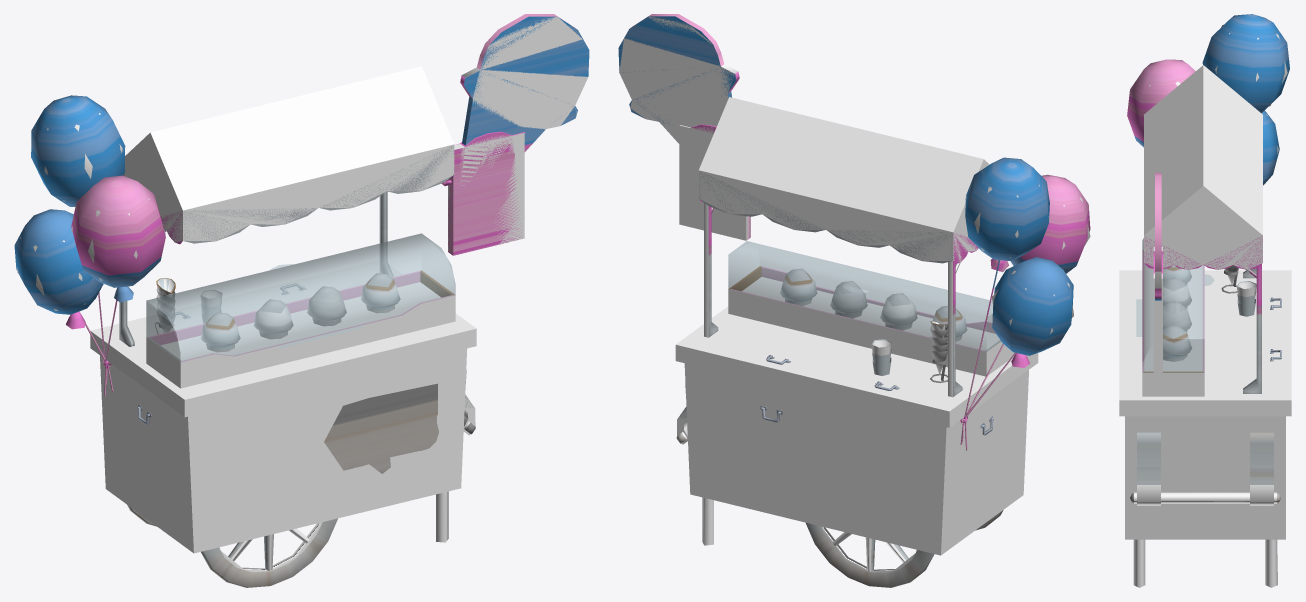
File: objects_un_icecream_cart01.gltf
3 renders of one model, left to right at view 1: azimuth 30°, elevation 25°; view 2: azimuth 150°, elevation 25°; view 3: azimuth 270°, elevation 25°, orthographic. The views are drawn at different scales.
Parts seen in each view (by area): view 1: um_objects_un_icecream_cart01_model_lod0Shape:objects_un_ice (×5), um_objects_un_icecream_cart01_model_lod1Shape:objects_un_ice (×3), um_objects_un_icecream_cart01_model_lod2Shape:objects_un_ice (×2); view 2: um_objects_un_icecream_cart01_model_lod0Shape:objects_un_ice (×5), um_objects_un_icecream_cart01_model_lod1Shape:objects_un_ice (×2), um_objects_un_icecream_cart01_model_lod2Shape:objects_un_ice; view 3: um_objects_un_icecream_cart01_model_lod0Shape:objects_un_ice (×5), um_objects_un_icecream_cart01_model_lod1Shape:objects_un_ice (×2), um_objects_un_icecream_cart01_model_lod2Shape:objects_un_ice (×2).
Boxes of the visible parts, <box> form: um_objects_un_icecream_cart01_model_lod0Shape:objects_un_ice (×5): <box>14,14,589,587</box>; um_objects_un_icecream_cart01_model_lod1Shape:objects_un_ice (×3): <box>147,234,455,470</box>; um_objects_un_icecream_cart01_model_lod2Shape:objects_un_ice (×2): <box>140,234,466,462</box>; um_objects_un_icecream_cart01_model_lod0Shape:objects_un_ice (×5): <box>618,14,1090,587</box>; um_objects_un_icecream_cart01_model_lod1Shape:objects_un_ice (×2): <box>729,241,999,351</box>; um_objects_un_icecream_cart01_model_lod2Shape:objects_un_ice: <box>728,242,1000,351</box>; um_objects_un_icecream_cart01_model_lod0Shape:objects_un_ice (×5): <box>1119,14,1291,587</box>; um_objects_un_icecream_cart01_model_lod1Shape:objects_un_ice (×2): <box>1137,238,1213,371</box>; um_objects_un_icecream_cart01_model_lod2Shape:objects_un_ice (×2): <box>1136,265,1255,371</box>.
Size of the model in its own units: 2.73 by 2.46 by 0.8531.
6 materials, 5 textured.
